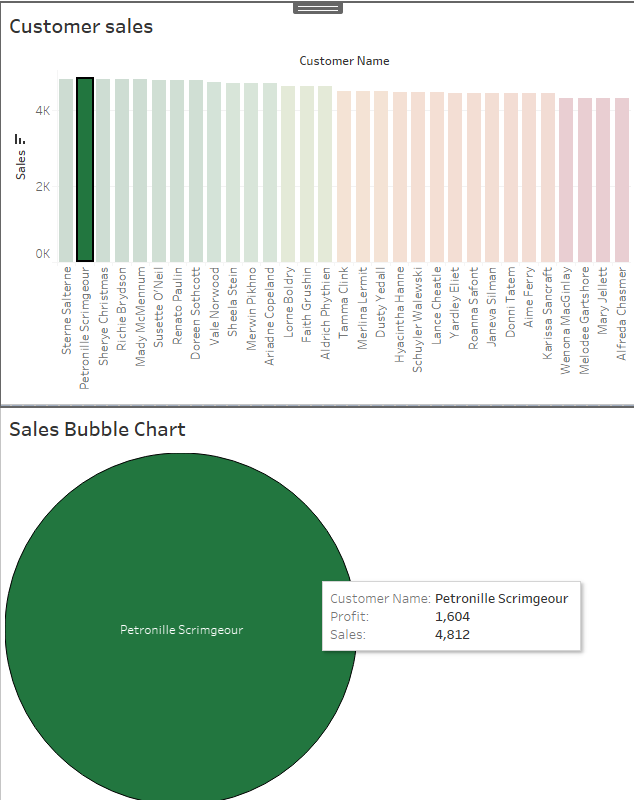

The page's visual inventory and layout, read from the dashboard file:
{"tool":"tableau","page":{"name":"Dashboard","canvas":[650,860],"ordinal":0},"visuals":[{"type":"worksheet","title":"Customer sales","mark":"Automatic","rows":["Sales"],"cols":["Customer Name"],"box":[8,8.4,634,421.6]},{"type":"worksheet","title":"Sales Bubble Chart","mark":"Circle","box":[8,430,634,421.6]}]}

Visuals, with their boxes in screenshot pixels (x1, y1, x2, y2):
"Customer sales" worksheet: x1=74 y1=30 x2=633 y2=403
"Sales Bubble Chart" worksheet (Circle marks): x1=74 y1=403 x2=633 y2=776
